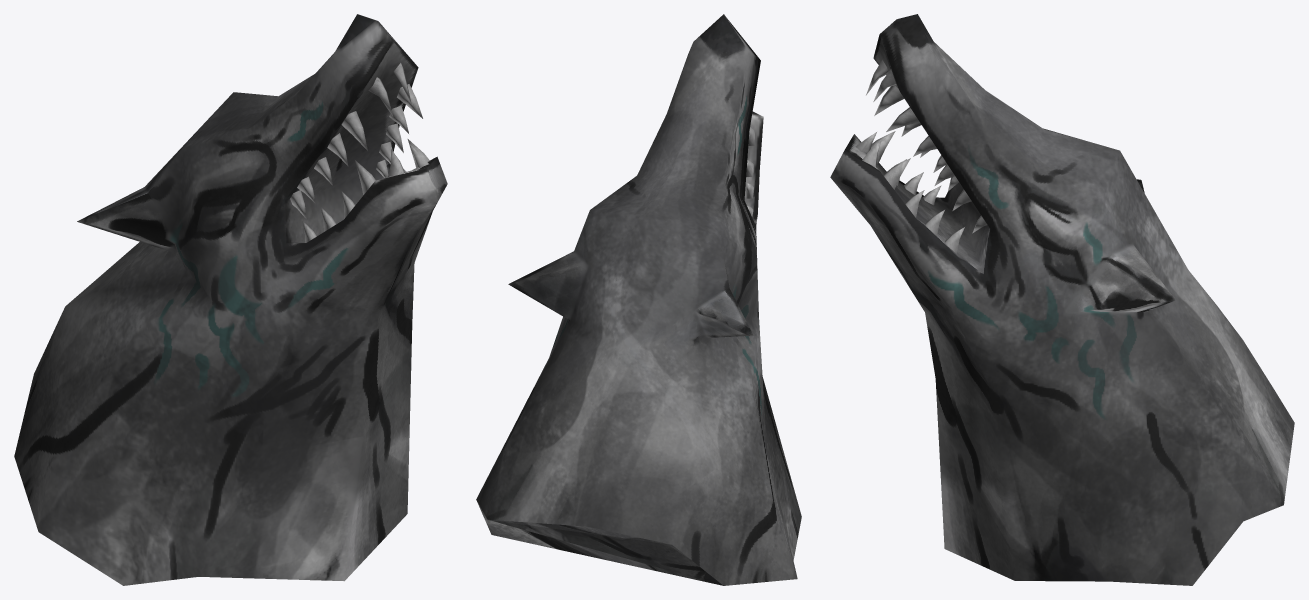
File: PRP_CaveStatueHalfB.FBX
3 renders of one model, left to right at view 1: azimuth 30°, elevation 25°; view 2: azimuth 150°, elevation 25°; view 3: azimuth 270°, elevation 25°, orthographic. The views are drawn at different scales.
Parts seen in each view (by area): view 1: PRP_CaveStatueHalfB; view 2: PRP_CaveStatueHalfB; view 3: PRP_CaveStatueHalfB.
Boxes of the visible parts, box(x1,y1,x2,y2) form: PRP_CaveStatueHalfB: box(14, 14, 447, 585); PRP_CaveStatueHalfB: box(476, 14, 801, 585); PRP_CaveStatueHalfB: box(830, 14, 1294, 585).
Bounding box in the file's own units: 82.64 × 133 × 103.
1 material, 1 textured.
